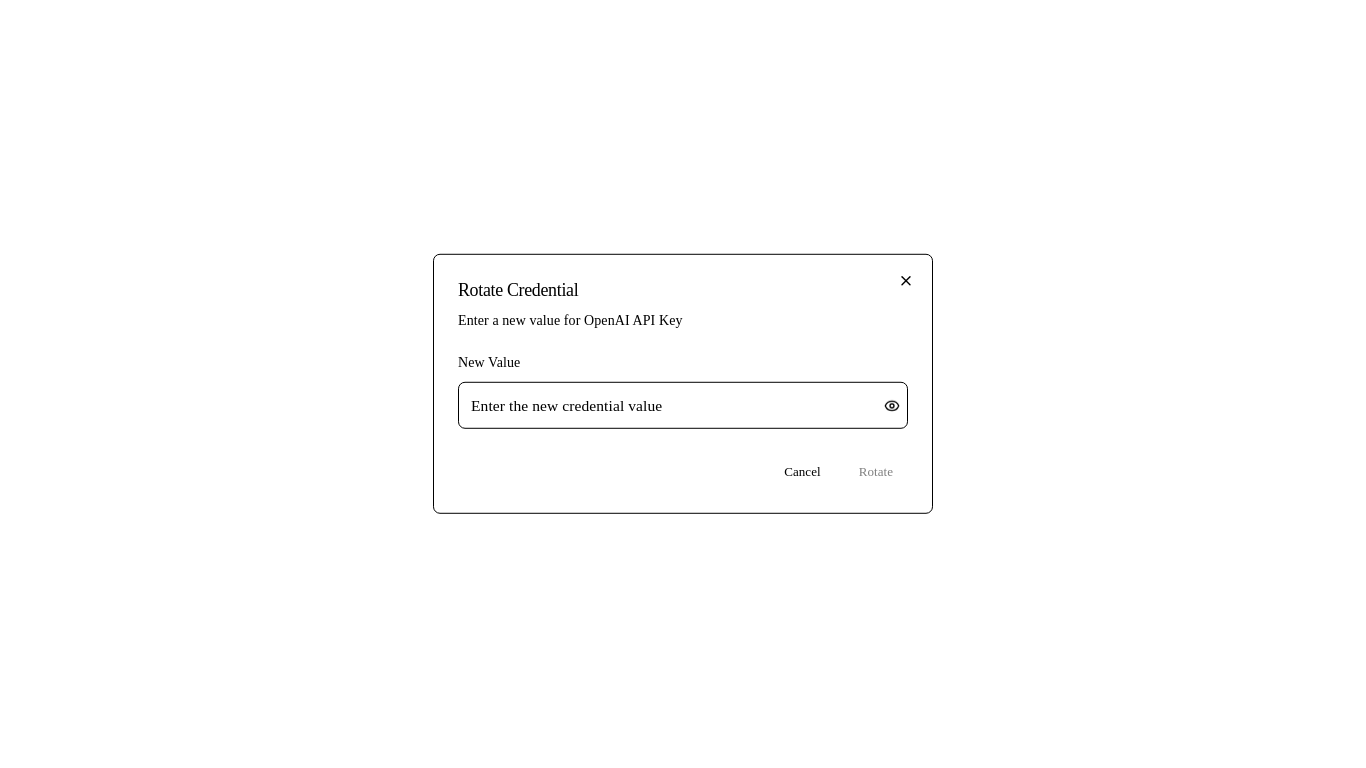
Test: RotateCredentialDialog › Form Submission › shows loading state during submission
The image size is (1366, 768).
Type "new-secret-value" into the password field labelled "New Value".
click(683, 406); type("new-secret-value")  # box x1=458 y1=382 x2=908 y2=429
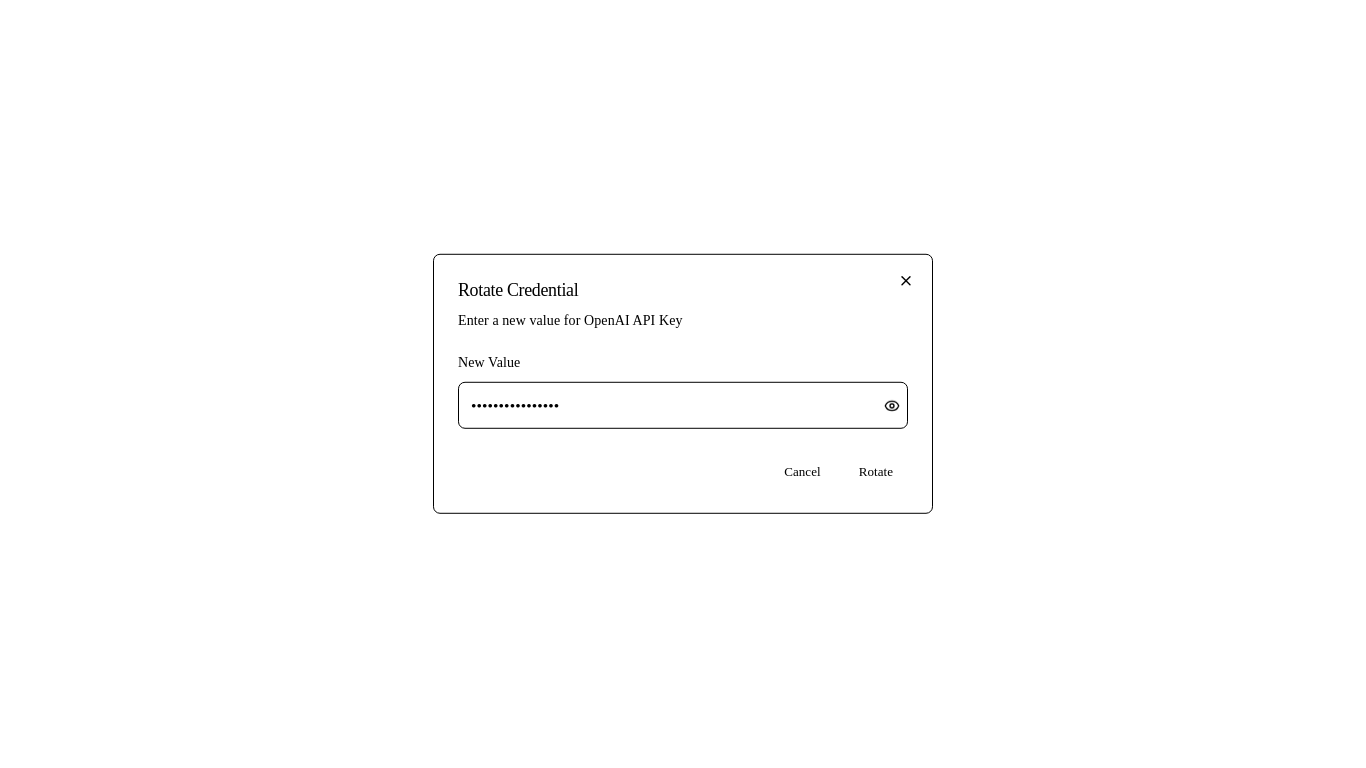
Click the button "Rotate".
click(876, 471)  # box x1=844 y1=453 x2=908 y2=489
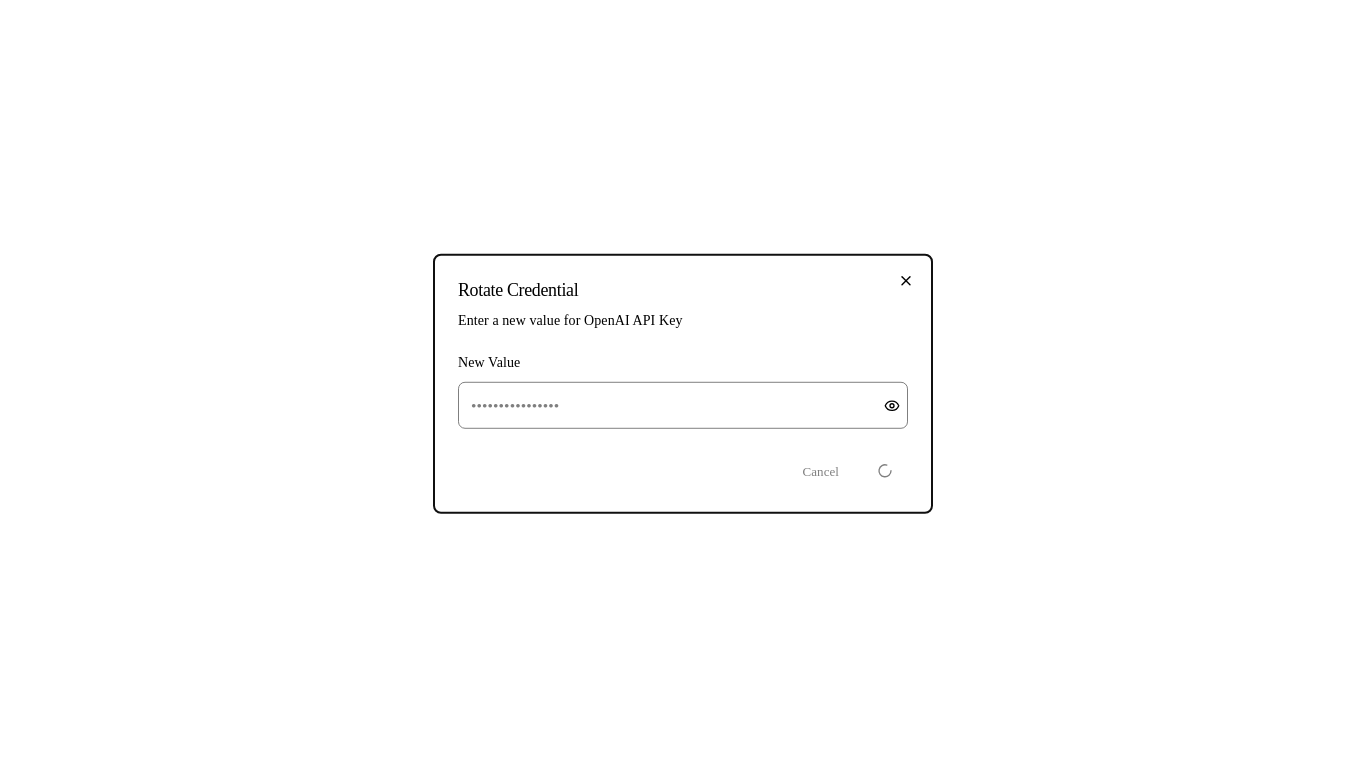
Now the button named "rotate" is disabled, box x1=862 y1=453 x2=908 y2=489
